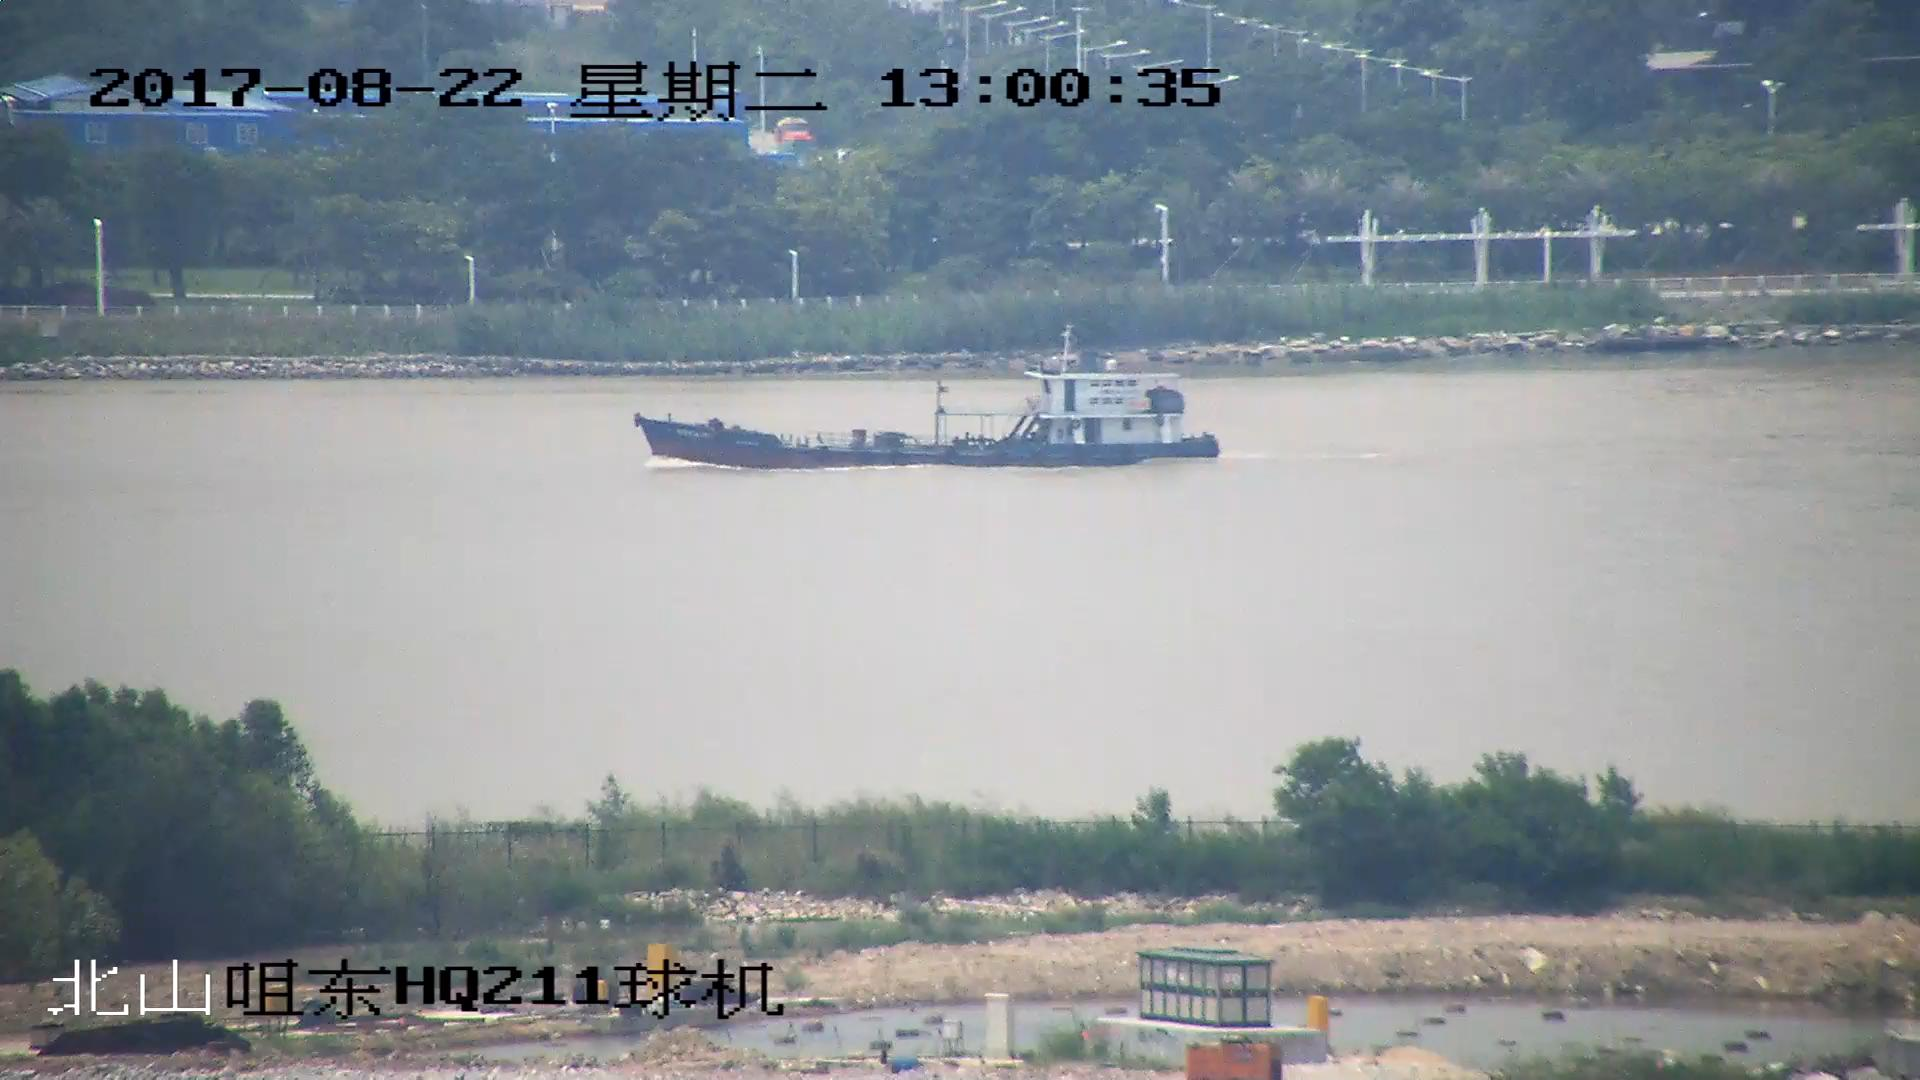fishing boat: (635, 334, 1223, 472)
